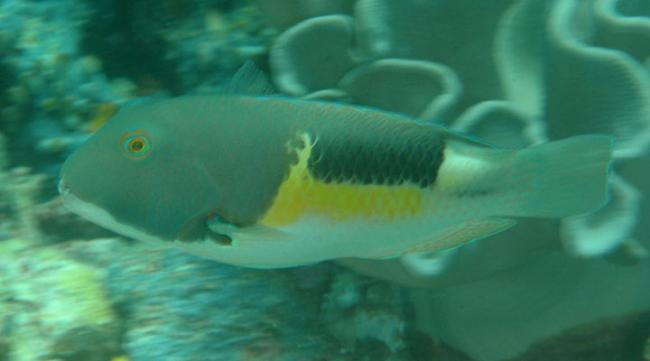fish: (58, 61, 615, 271)
